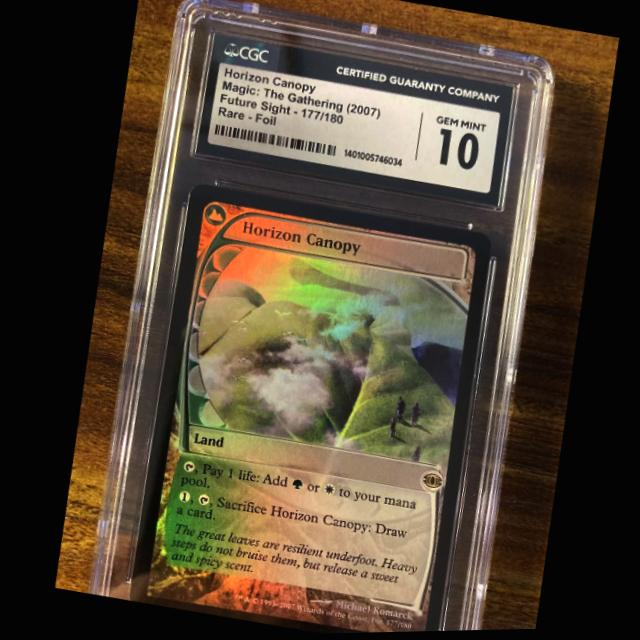card: (119, 181, 492, 635)
cgc_label: (192, 33, 514, 209)
cgc_slab: (78, 0, 558, 635)
